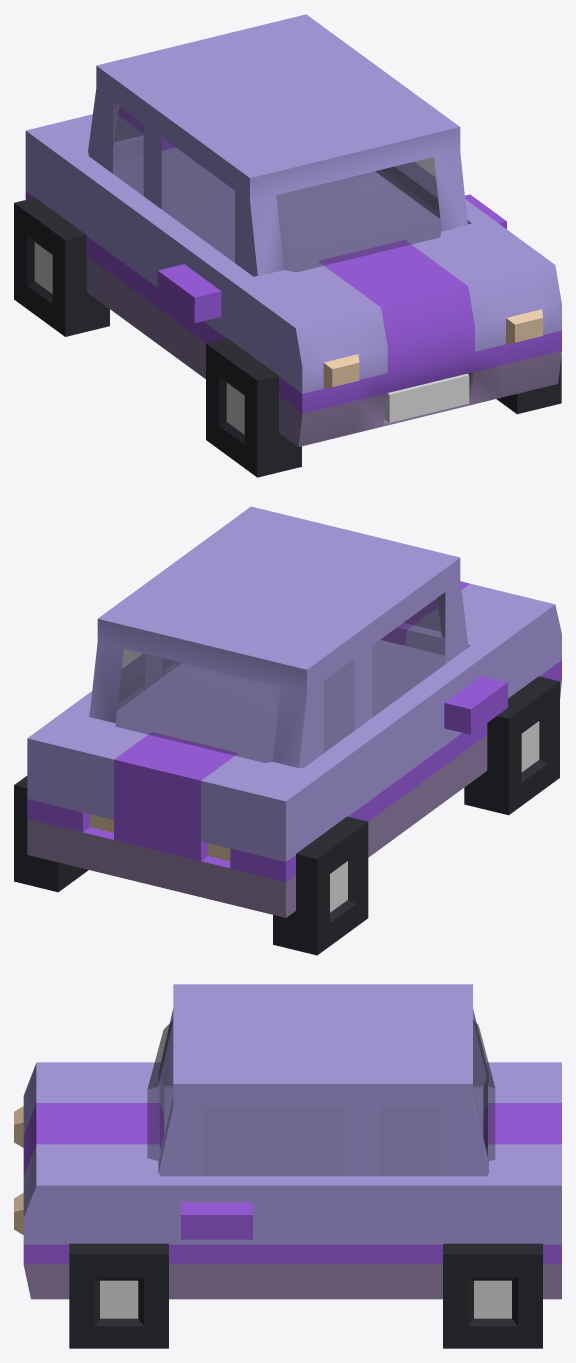
Rendered from car.fbx.
3 renders of one model, top to bottom at view 1: azimuth 30°, elevation 25°; view 2: azimuth 150°, elevation 25°; view 3: azimuth 270°, elevation 25°, orthographic. The views are drawn at different scales.
Visible parts, largest first — view 1: pCube68; view 2: pCube68; view 3: pCube68.
Boxes of the visible parts, x1=… form: pCube68: x1=14, y1=14, x2=561, y2=477; pCube68: x1=14, y1=506, x2=561, y2=955; pCube68: x1=14, y1=984, x2=561, y2=1348.
Bounding box in the file's own units: 293 × 223 × 458.
